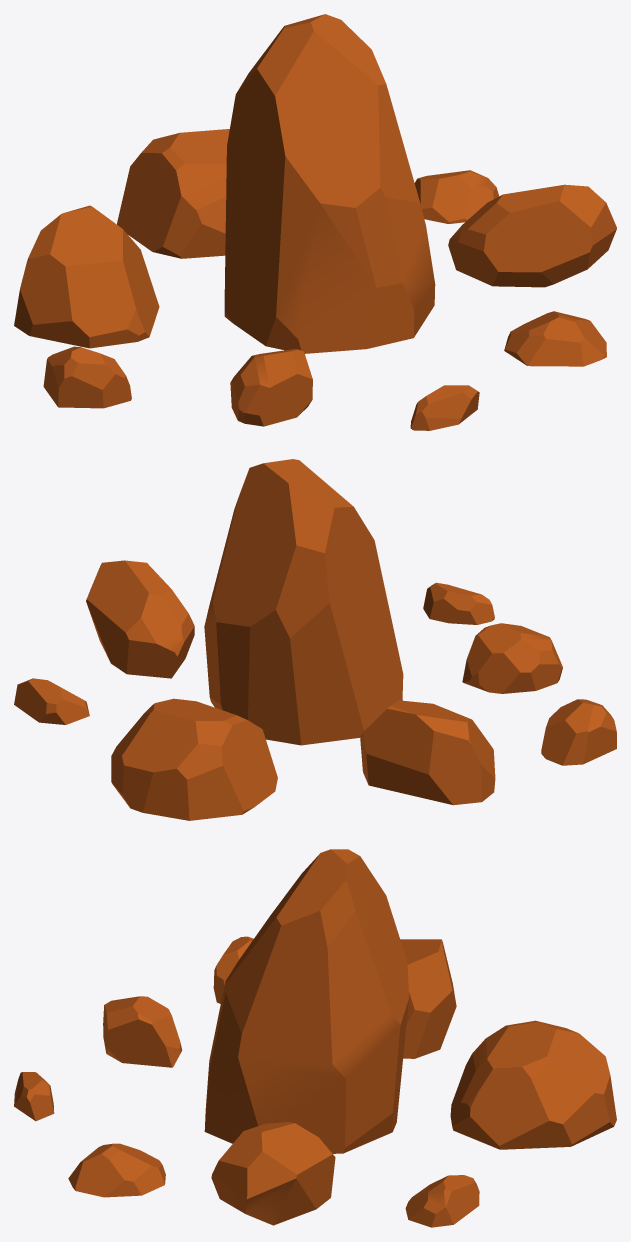
File: rocks.fbx
The picture shows the model from 3 angles, top to bottom: view 1: azimuth 30°, elevation 25°; view 2: azimuth 150°, elevation 25°; view 3: azimuth 270°, elevation 25°; orthographic projection. The views are drawn at different scales.
Parts seen in each view (by area): view 1: defaultMaterial.007, defaultMaterial, defaultMaterial.008, defaultMaterial.006, defaultMaterial.005, defaultMaterial.003, defaultMaterial.001, defaultMaterial.002, defaultMaterial.004; view 2: defaultMaterial.007, defaultMaterial.006, defaultMaterial, defaultMaterial.008, defaultMaterial.005, defaultMaterial.001, defaultMaterial.002, defaultMaterial.004; view 3: defaultMaterial.007, defaultMaterial.006, defaultMaterial.008, defaultMaterial, defaultMaterial.005, defaultMaterial.003, defaultMaterial.002, defaultMaterial.004, defaultMaterial.001.
Boxes of the visible parts, x1,y1,x2,y2 form: defaultMaterial.007: (224, 14, 435, 353); defaultMaterial: (14, 205, 159, 348); defaultMaterial.008: (448, 184, 616, 287); defaultMaterial.006: (117, 129, 229, 258); defaultMaterial.005: (230, 349, 312, 426); defaultMaterial.003: (504, 311, 606, 366); defaultMaterial.001: (43, 346, 131, 408); defaultMaterial.002: (414, 170, 499, 223); defaultMaterial.004: (410, 385, 479, 430); defaultMaterial.007: (204, 459, 403, 745); defaultMaterial.006: (111, 698, 277, 820); defaultMaterial: (360, 700, 495, 805); defaultMaterial.008: (86, 560, 194, 678); defaultMaterial.005: (462, 623, 562, 693); defaultMaterial.001: (541, 699, 616, 765); defaultMaterial.002: (14, 678, 89, 724); defaultMaterial.004: (423, 582, 494, 624); defaultMaterial.007: (204, 849, 408, 1153); defaultMaterial.006: (450, 1020, 616, 1149); defaultMaterial.008: (211, 1122, 335, 1225); defaultMaterial: (400, 939, 456, 1058); defaultMaterial.005: (103, 996, 182, 1067); defaultMaterial.003: (68, 1143, 165, 1197); defaultMaterial.002: (405, 1175, 479, 1227); defaultMaterial.004: (14, 1072, 54, 1121); defaultMaterial.001: (213, 936, 253, 1003).
Bounding box in the file's own units: 200 × 94.28 × 193.
1 material, 1 textured.
